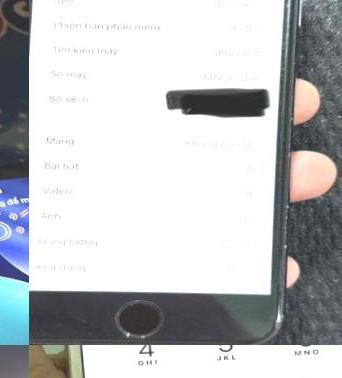scratch: (104, 296, 169, 340), (268, 190, 302, 256), (249, 297, 292, 342)
